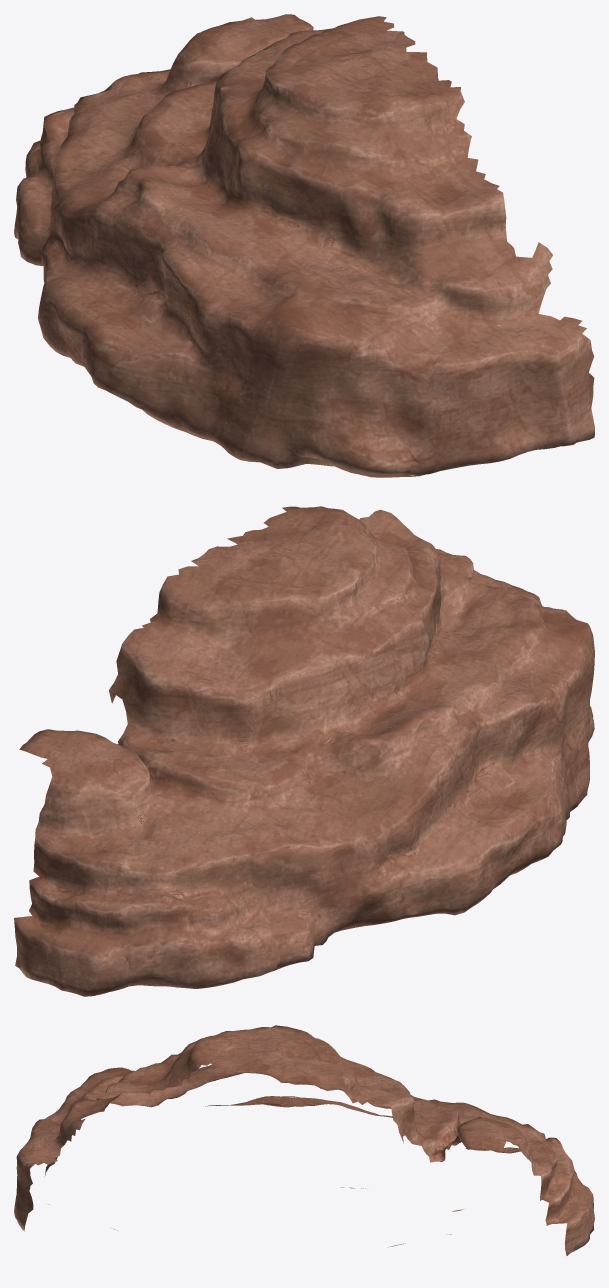
The model's file is scene-cut.glb.
3 renders of one model, top to bottom at view 1: azimuth 30°, elevation 25°; view 2: azimuth 150°, elevation 25°; view 3: azimuth 270°, elevation 25°, orthographic. The views are drawn at different scales.
Parts seen in each view (by area): view 1: P11DesertCliff-High; view 2: P11DesertCliff-High; view 3: P11DesertCliff-High.
Part boxes in pixels (x1,y1,x2,y2): P11DesertCliff-High: (14,14,594,477); P11DesertCliff-High: (14,506,594,996); P11DesertCliff-High: (14,1025,594,1255).
Size of the model in its own units: 1073 by 856 by 2131.
1 material, 1 textured.
